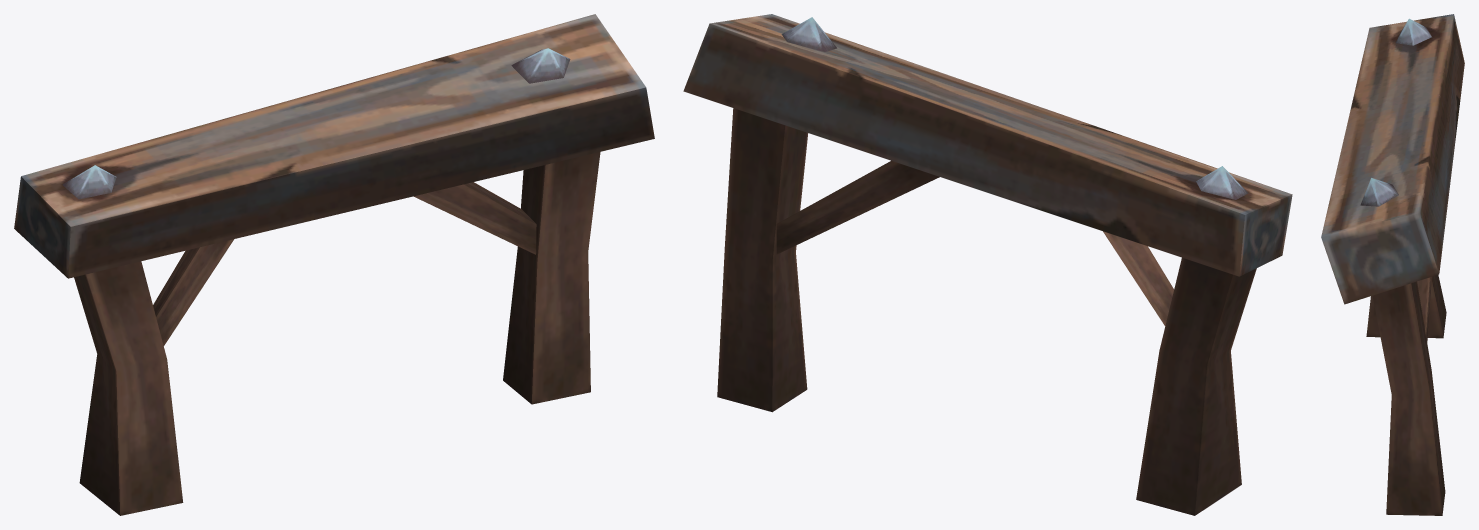
Rendered from mine_railing_small_03.fbx.
3 renders of one model, left to right at view 1: azimuth 30°, elevation 25°; view 2: azimuth 150°, elevation 25°; view 3: azimuth 270°, elevation 25°, orthographic. The views are drawn at different scales.
Parts seen in each view (by area): view 1: 13_-_Default; view 2: 13_-_Default; view 3: 13_-_Default.
Boxes of the visible parts, x1,y1,x2,y2 form: 13_-_Default: [14, 14, 654, 515]; 13_-_Default: [683, 14, 1292, 515]; 13_-_Default: [1321, 14, 1464, 515].
Bounding box in the file's own units: 2.57 × 1.56 × 0.6447.
